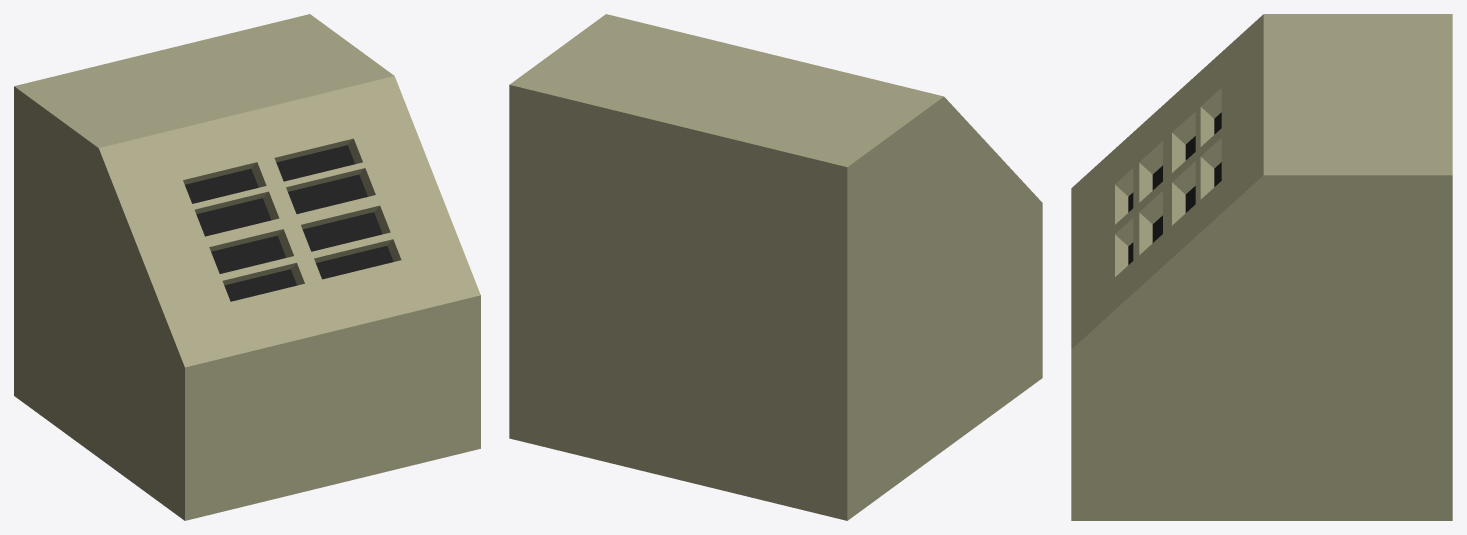
The model's file is Aircon.glb.
3 renders of one model, left to right at view 1: azimuth 30°, elevation 25°; view 2: azimuth 150°, elevation 25°; view 3: azimuth 270°, elevation 25°, orthographic. The views are drawn at different scales.
Visible parts, largest first — view 1: Aircon; view 2: Aircon; view 3: Aircon.
Boxes of the visible parts, x1,y1,x2,y2 form: Aircon: (14, 14, 480, 520); Aircon: (509, 14, 1042, 520); Aircon: (1071, 14, 1452, 520).
Bounding box in the file's own units: 2 × 2 × 2.
